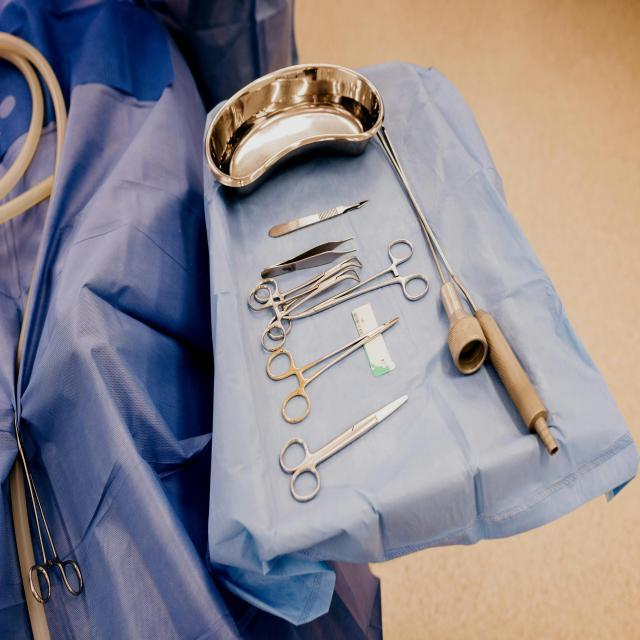tools_table: (193, 72, 640, 622)
